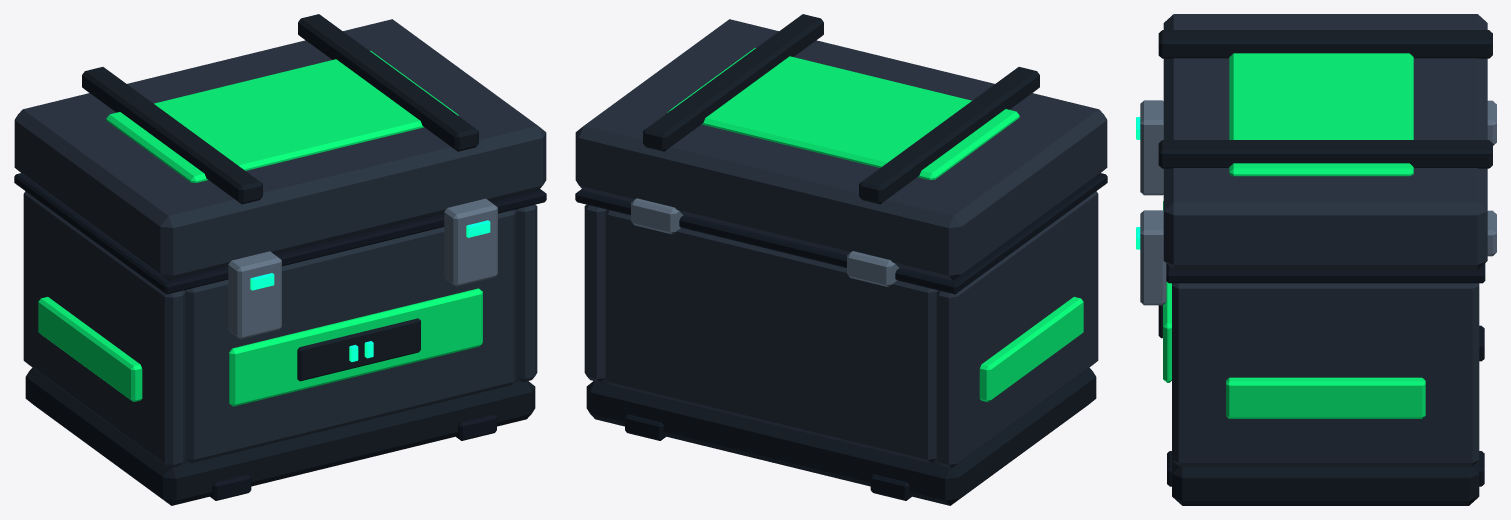
The model's file is UncommonChest.glb.
The picture shows the model from 3 angles, left to right: view 1: azimuth 30°, elevation 25°; view 2: azimuth 150°, elevation 25°; view 3: azimuth 270°, elevation 25°; orthographic projection. The views are drawn at different scales.
Parts seen in each view (by area): view 1: Body, Lid; view 2: Body, Lid; view 3: Lid, Body.
Part boxes in pixels (x1,y1,x2,y2): Body: (23,191,537,505); Lid: (14,14,546,294); Body: (584,191,1098,505); Lid: (575,14,1107,294); Lid: (1158,14,1496,283); Body: (1136,100,1484,505).
Size of the model in its own units: 1.14 by 0.866 by 0.8685.
Materials: 1 (1 with a texture image).
